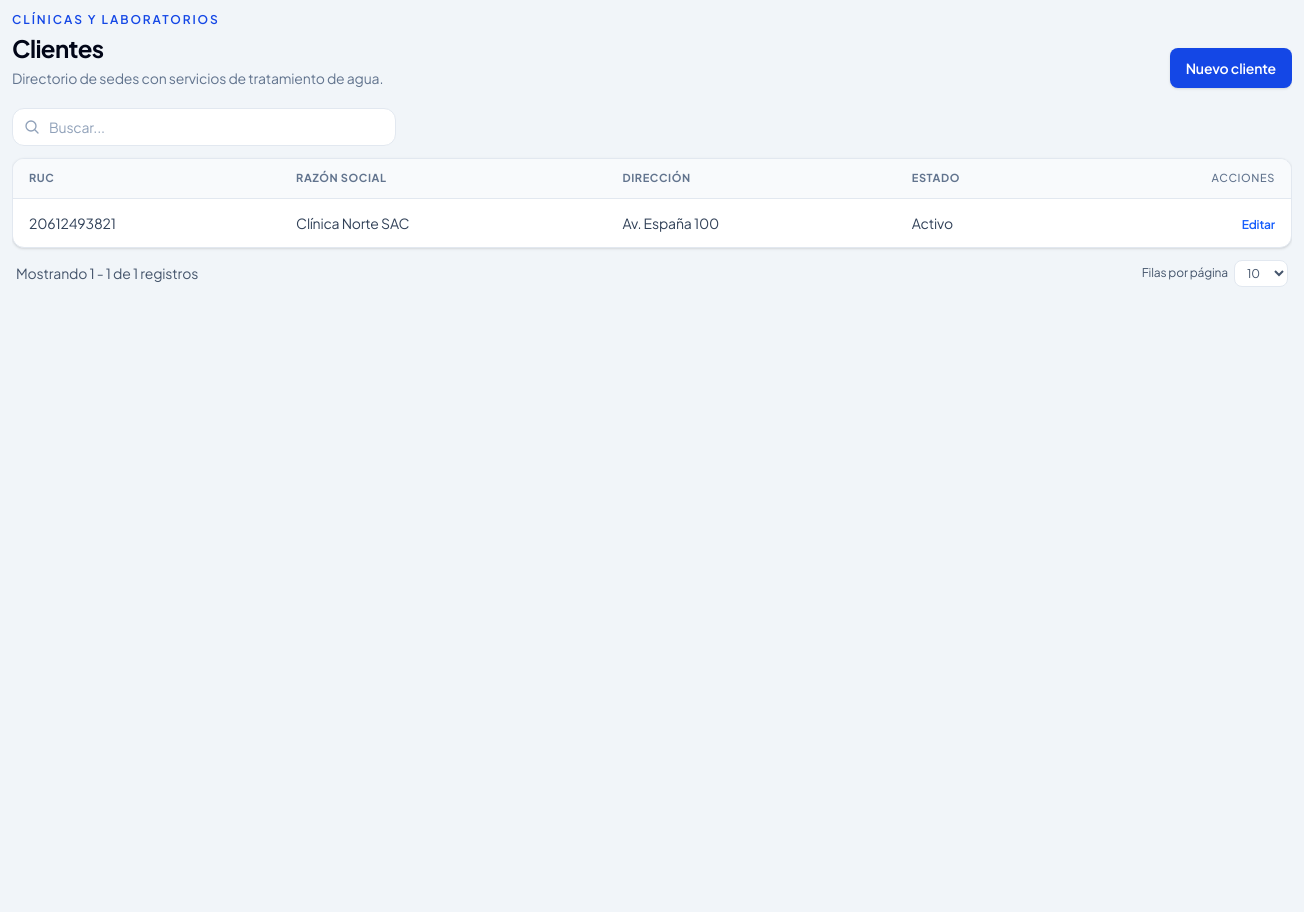
Test: ClientesPage › editar: el RUC queda bloqueado y se envía PUT
Step 1. Click the button "Editar" → (1258, 225), box [1242, 217, 1275, 233]
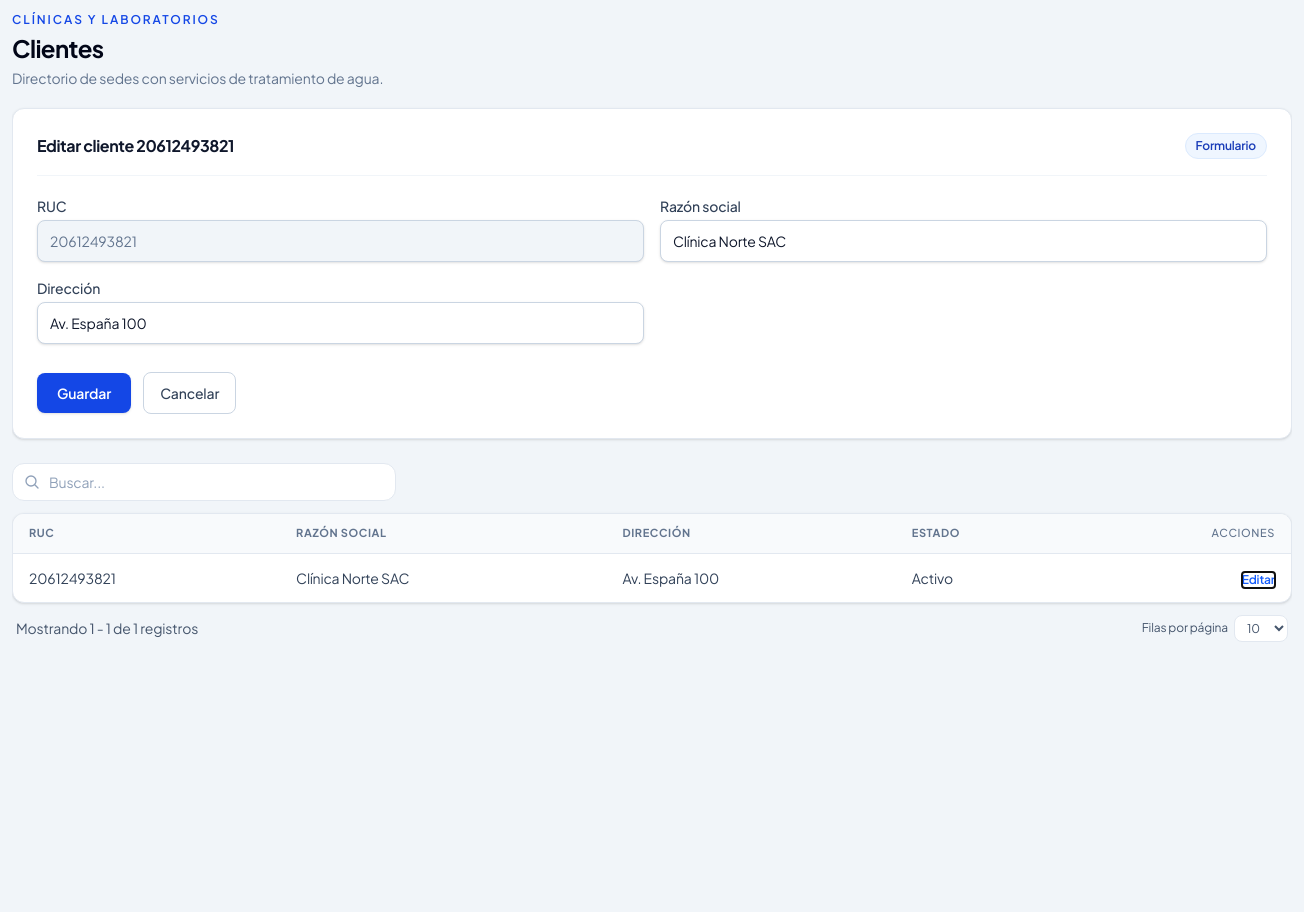
Expected: the field labelled "RUC" is disabled, [37, 220, 644, 262]
Step 2. Replace the text in the field labelled "Razón social" with "Otra SAC" → (964, 241), box [660, 220, 1267, 262]
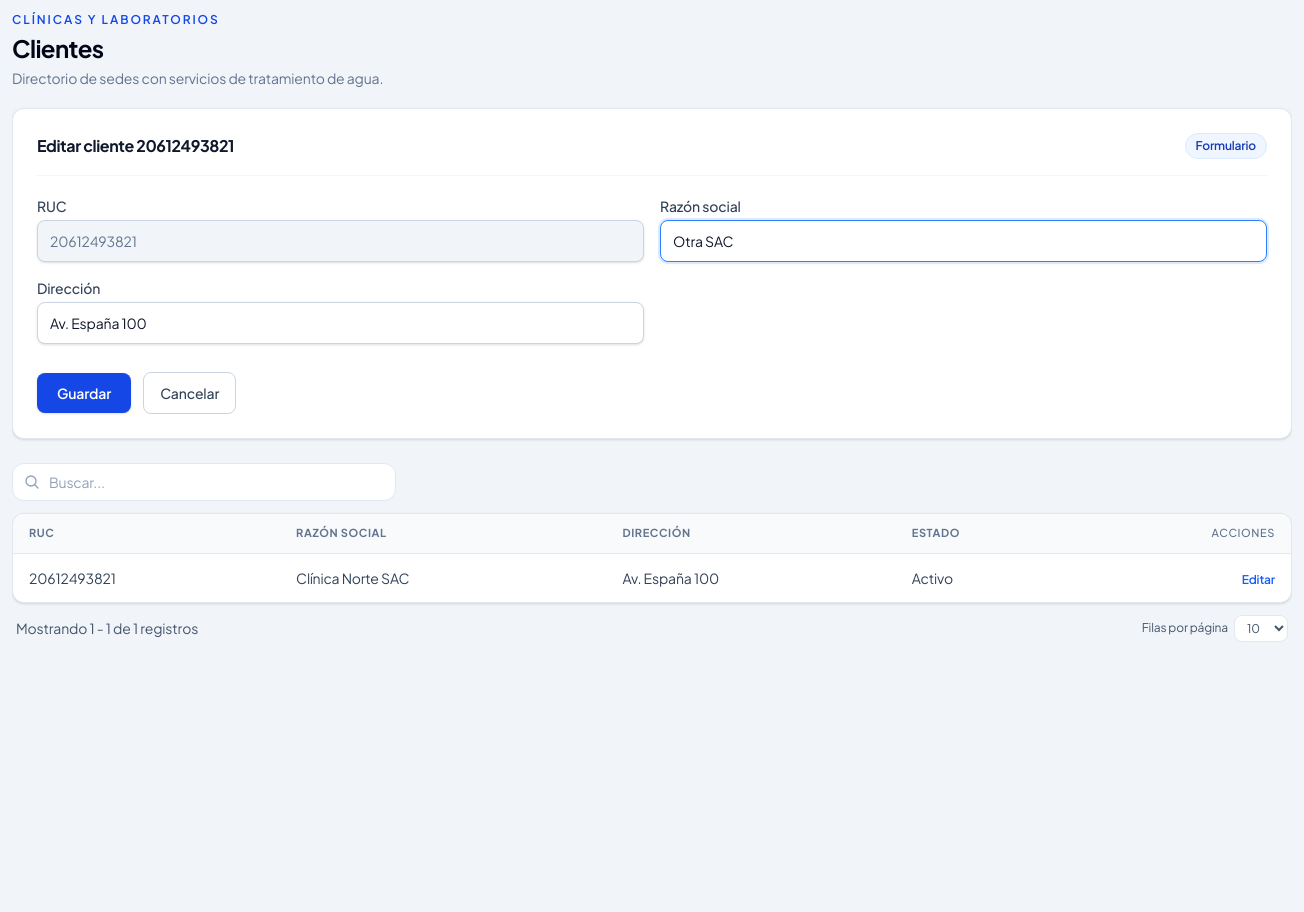
Step 3. Click the button "Guardar" → (84, 393), box [37, 373, 131, 413]
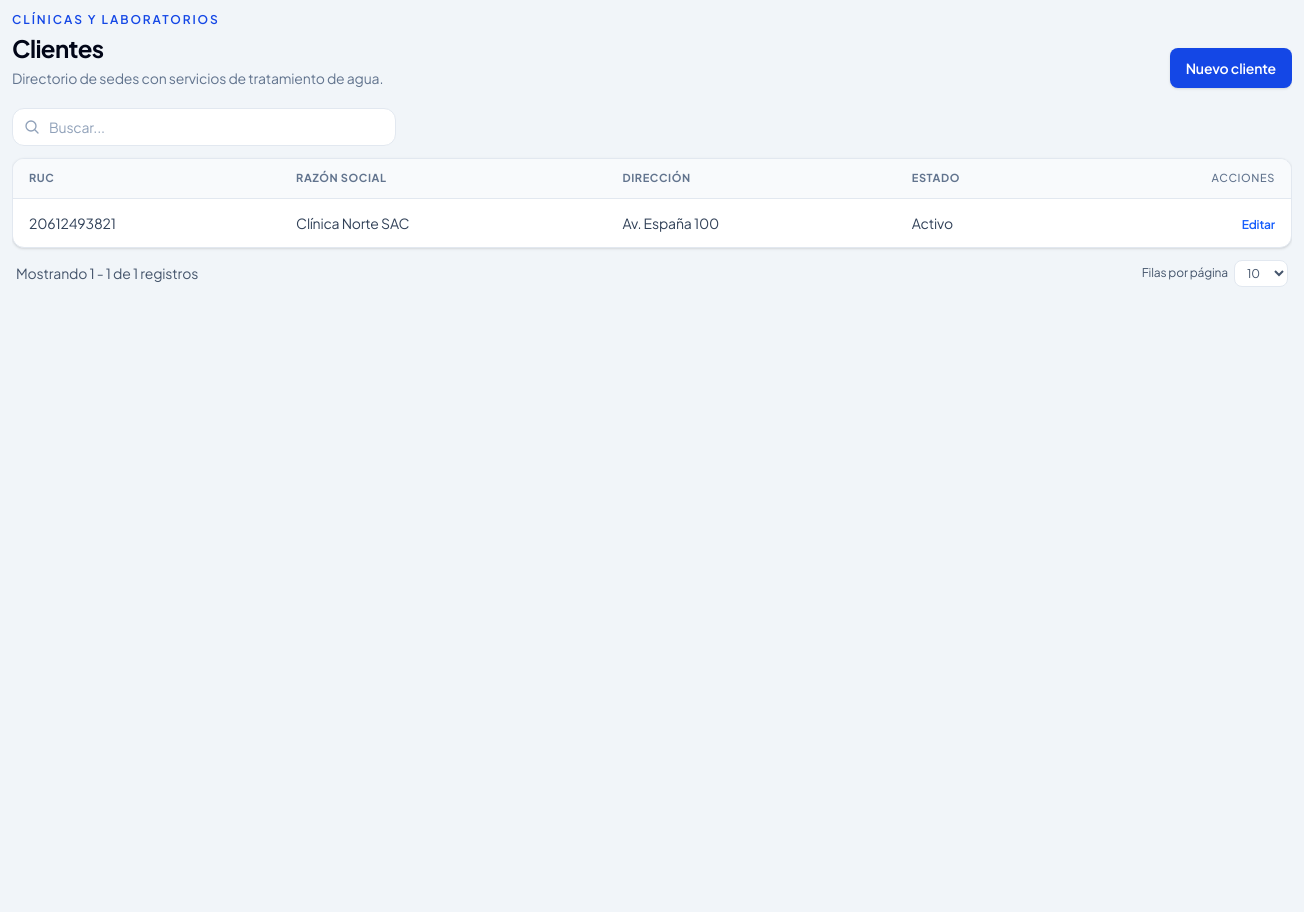
Expected: the button "Nuevo cliente" is shown, [1170, 48, 1292, 88]
